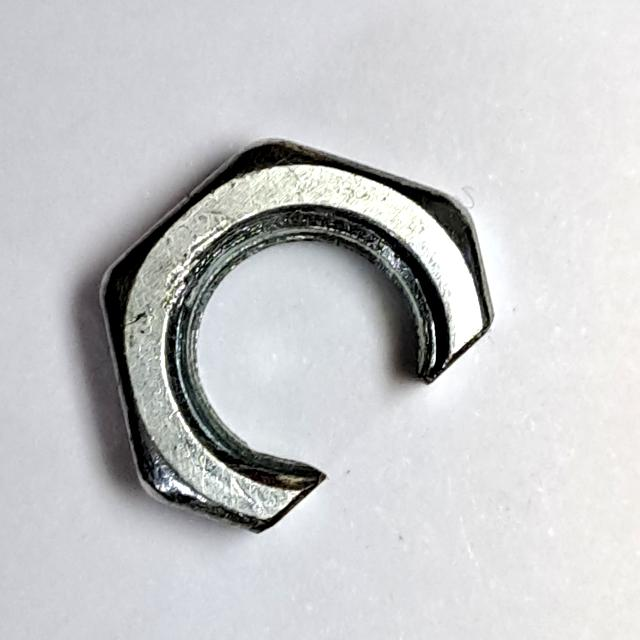Fracture: (87, 126, 505, 548)
